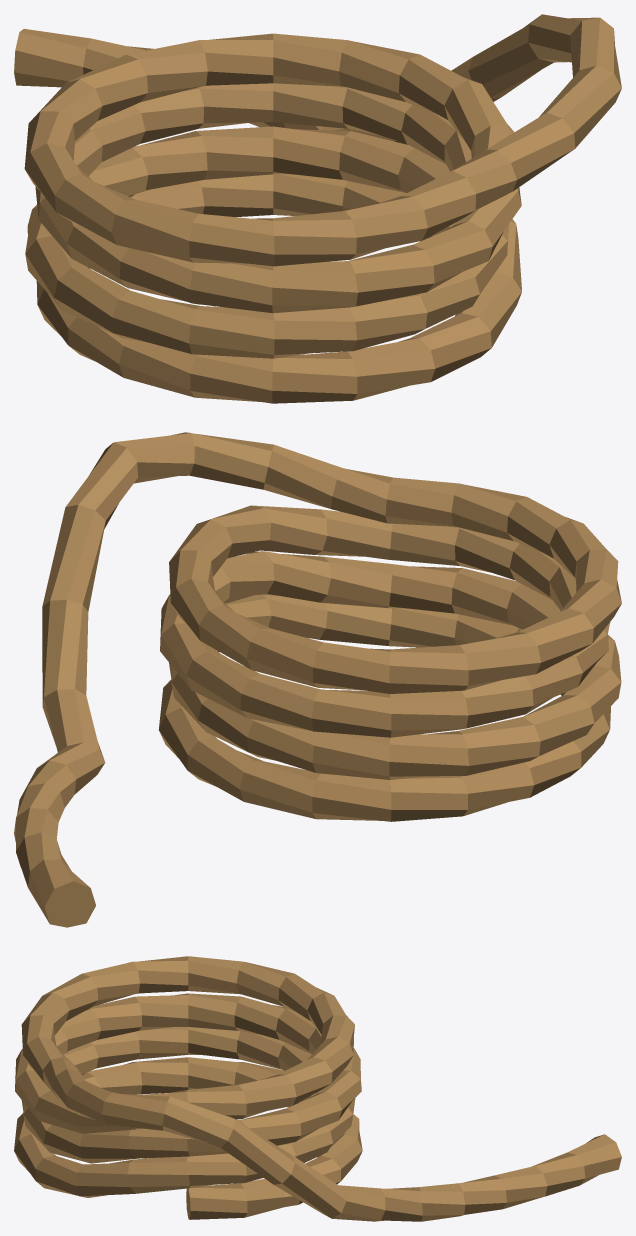
The model's file is coiled-rope_final.glb.
3 views of the same model, one above another, from view 1: azimuth 30°, elevation 25°; view 2: azimuth 150°, elevation 25°; view 3: azimuth 270°, elevation 25° (orthographic). The views are drawn at different scales.
Visible parts, largest first — view 1: SM_CoiledRope_Rope; view 2: SM_CoiledRope_Rope; view 3: SM_CoiledRope_Rope.
Part boxes in pixels (left/top/right/bottom): SM_CoiledRope_Rope: left=14, top=14, right=621, bottom=403; SM_CoiledRope_Rope: left=14, top=432, right=621, bottom=927; SM_CoiledRope_Rope: left=14, top=956, right=621, bottom=1221.
Bounding box in the file's own units: 0.3398 × 0.1355 × 0.4704.
